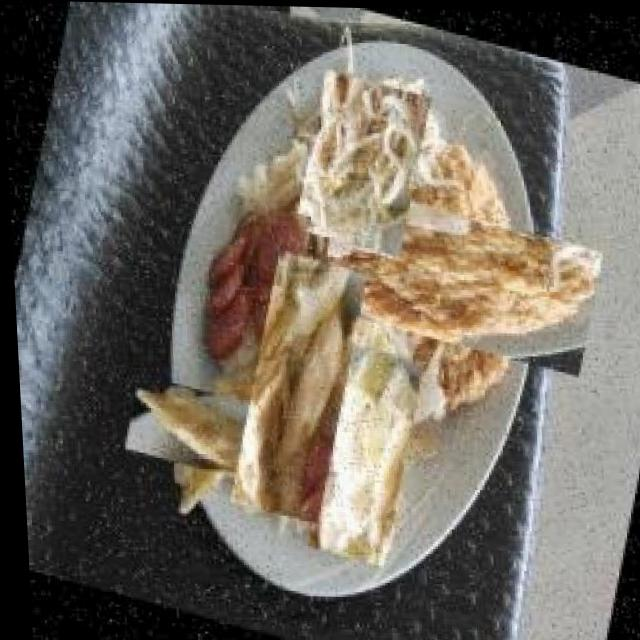chinese_cabbage: (294, 340, 431, 567)
chinese_sausage: (183, 191, 315, 376)
fried_chicken: (331, 154, 581, 401)
fried_dumplings: (215, 247, 376, 524), (134, 355, 296, 513)
mung_bean_sprouts: (286, 67, 438, 257)
